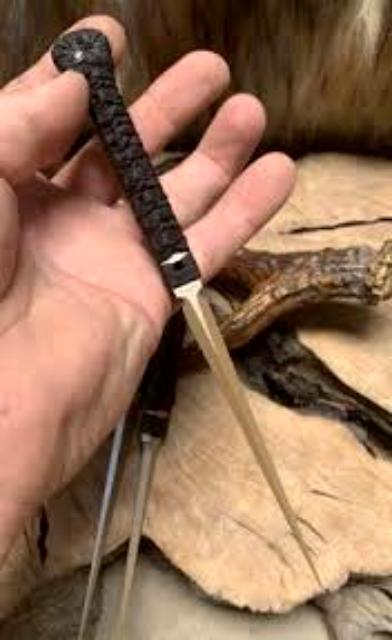ice pick: (30, 22, 356, 640)
